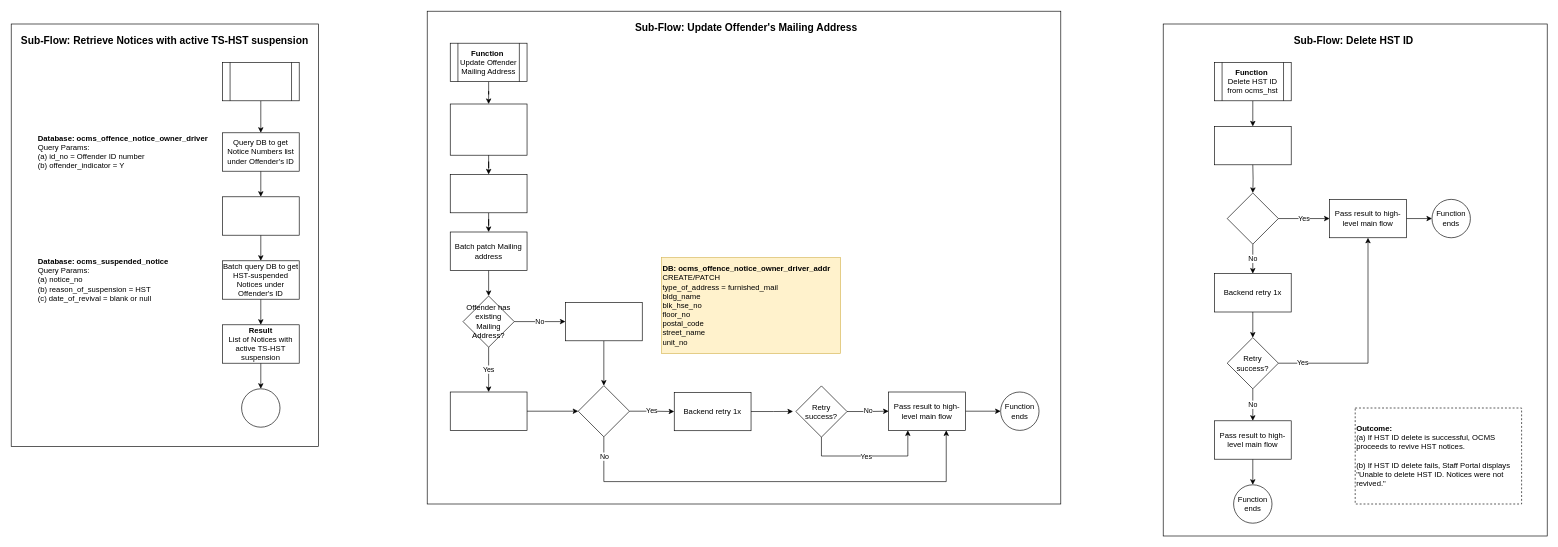
This 1558x547 diagram has some shape labels left out. Each missing label, with the centre of its shape:
Any record failed?: (603,411)
Creates new Mailing Address record: (603,321)
Delete HST ID success?: (1252,218)
End: (260,407)
Function Retrieve all HST Notices: (260,81)
Get list of Notice Numbers with active TS-HST suspension from previous process: (488,129)
Overwrite existing Mailing Address: (488,410)
Result List of Notice numbers under Offender's ID: (260,215)
Trigger delete HST ID record in HST DB: (1252,145)
Use address sent by Portal to update Offender Mailing address: (488,193)
